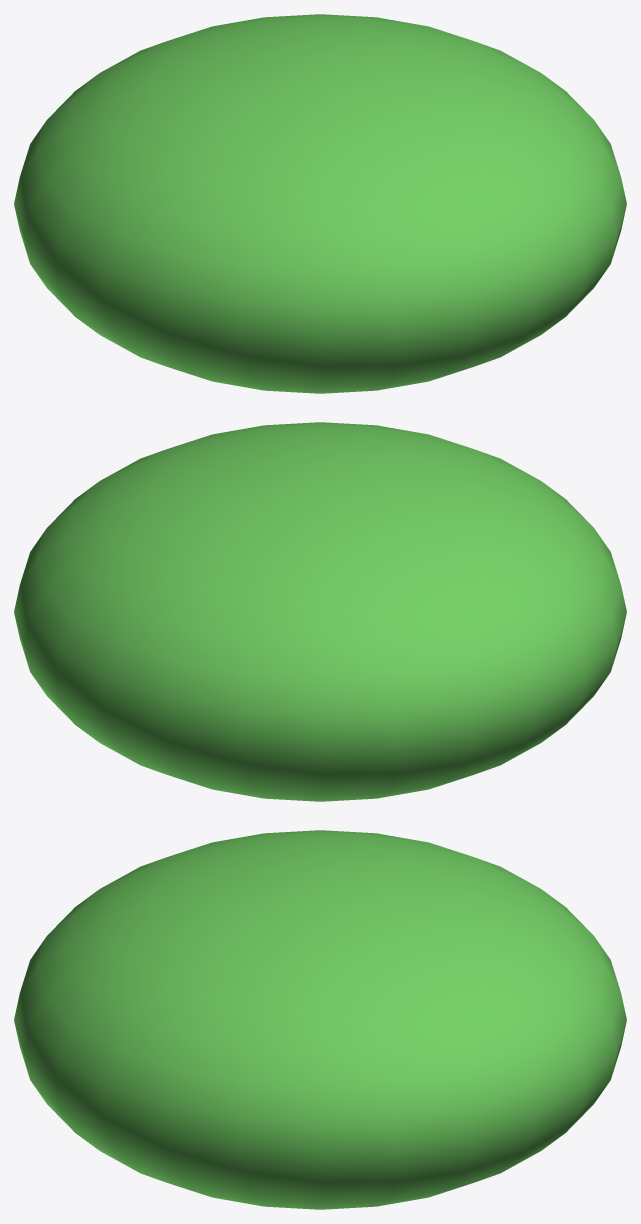
Rendered from chloroplast.glb.
3 views of the same model, one above another, from view 1: azimuth 30°, elevation 25°; view 2: azimuth 150°, elevation 25°; view 3: azimuth 270°, elevation 25° (orthographic).
Visible parts, largest first — view 1: envelope; view 2: envelope; view 3: envelope.
Boxes of the visible parts, x1,y1,x2,y2 form: envelope: (14, 14, 626, 393); envelope: (14, 422, 626, 801); envelope: (14, 830, 626, 1209).
Bounding box in the file's own units: 1.4 × 0.7 × 1.4.
